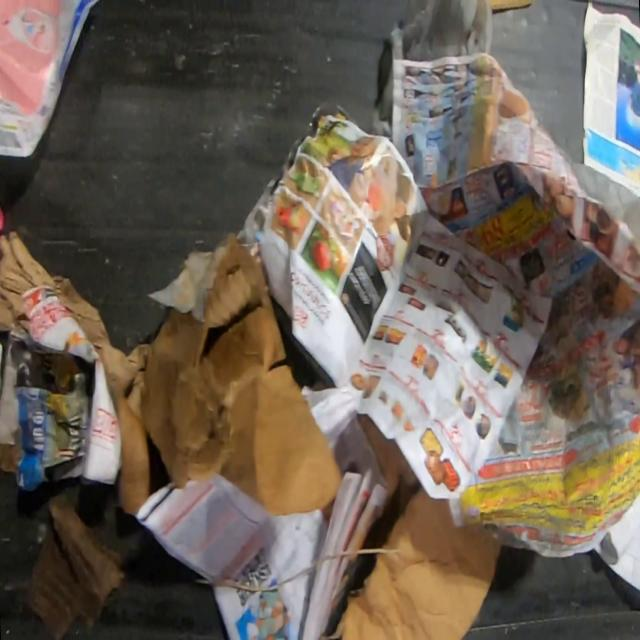cardboard: (0, 231, 341, 516), (338, 483, 502, 638), (28, 492, 124, 637)
soft_plastic: (390, 0, 494, 62), (574, 161, 640, 252)
